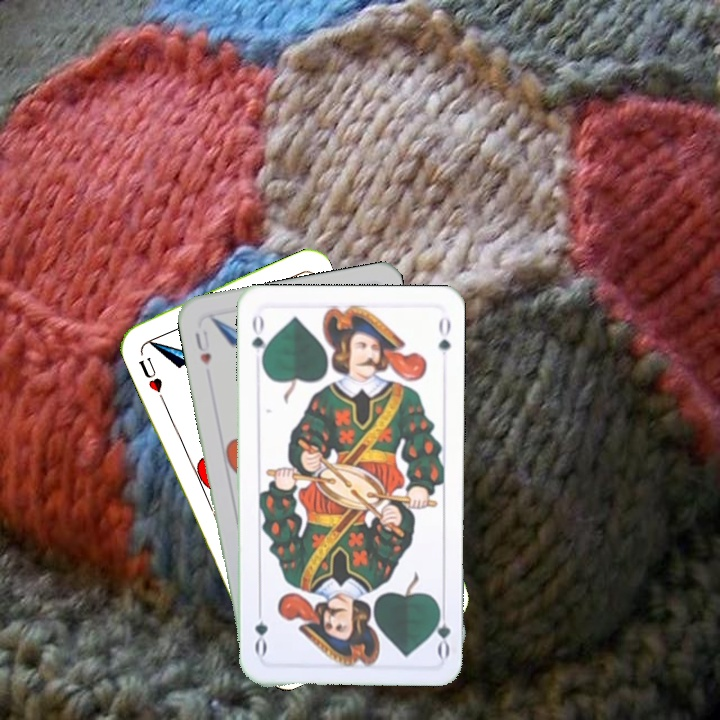GO: (428, 601, 453, 660), (247, 310, 270, 369)
HU: (134, 353, 165, 395), (191, 326, 214, 368)
